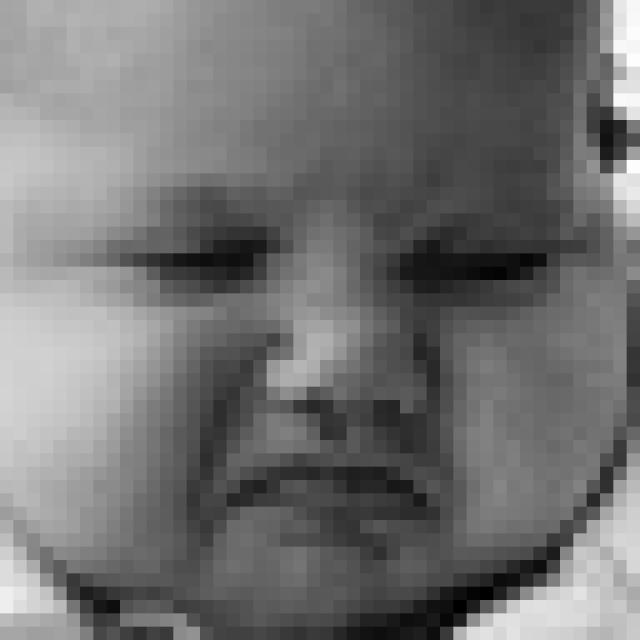disgust: (86, 208, 565, 568)
